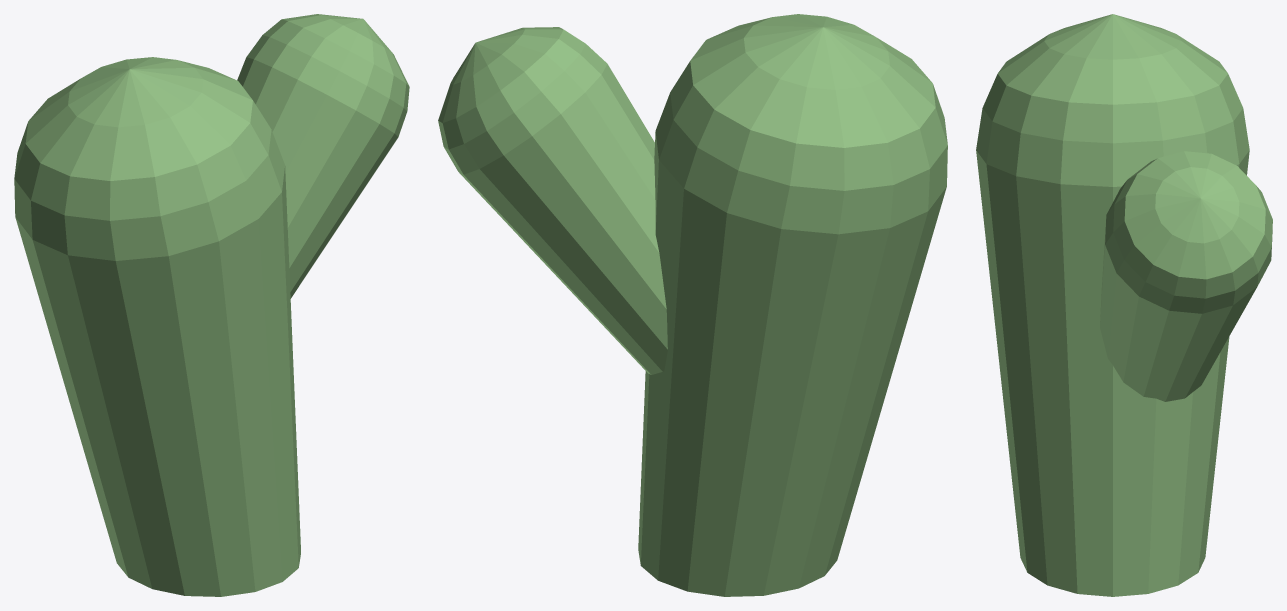
The model's file is cactus.fbx.
3 renders of one model, left to right at view 1: azimuth 30°, elevation 25°; view 2: azimuth 150°, elevation 25°; view 3: azimuth 270°, elevation 25°, orthographic. The views are drawn at different scales.
Parts seen in each view (by area): view 1: Circle, Circle.001; view 2: Circle, Circle.001; view 3: Circle, Circle.001.
Boxes of the visible parts, x1,y1,x2,y2 form: Circle: (14,57,300,596); Circle.001: (237,14,409,298); Circle: (638,14,947,596); Circle.001: (438,27,667,374); Circle: (976,14,1249,596); Circle.001: (1100,151,1272,401).
Size of the model in its own units: 80.06 by 95.91 by 51.05.
